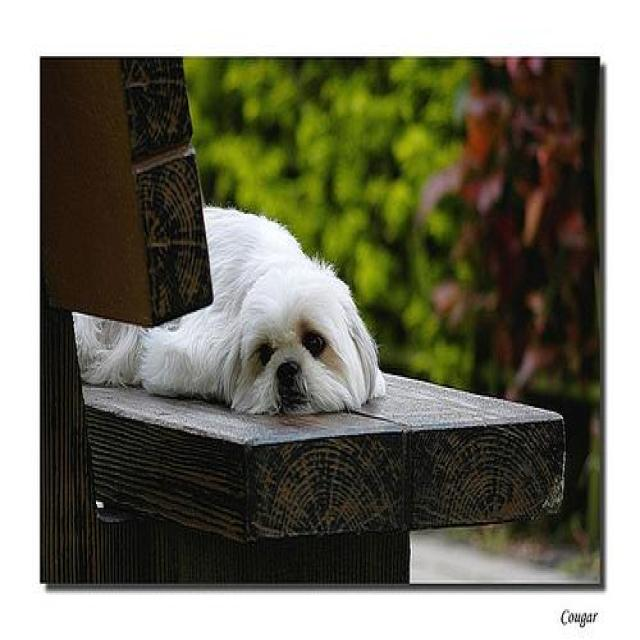shih_tzu: (71, 198, 386, 412)
